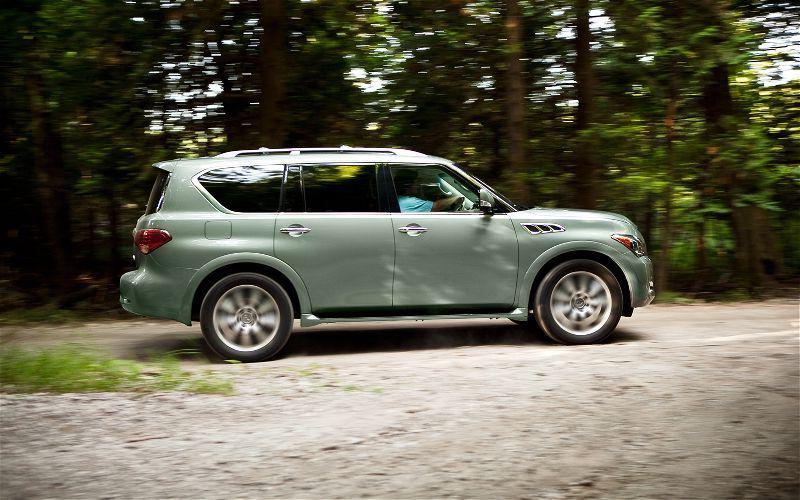Car: (114, 132, 660, 374)
